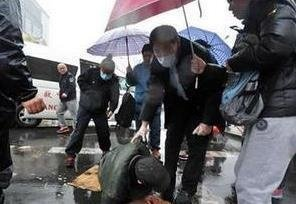falling: (66, 135, 173, 202)
